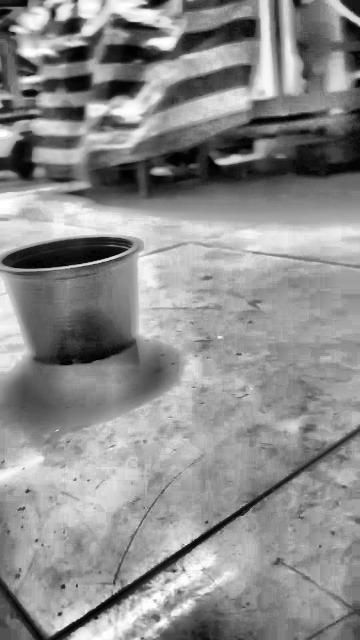pot: (1, 236, 142, 365)
